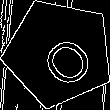O_NW: (25, 20, 92, 87)
